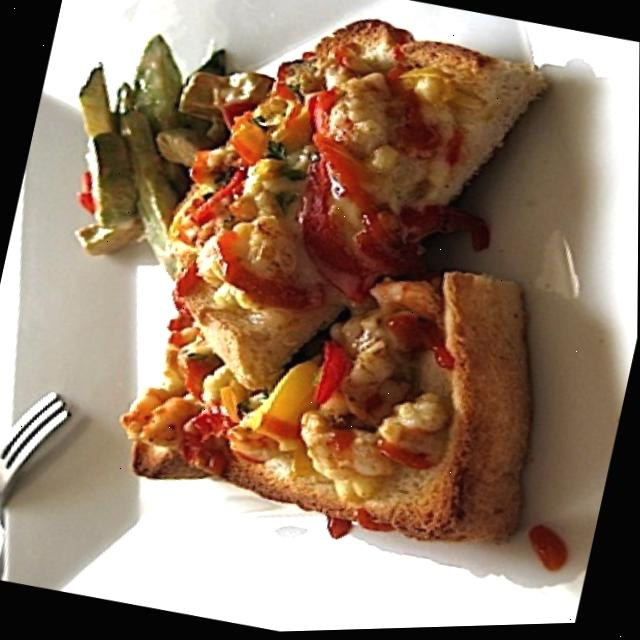面包点心: (64, 0, 627, 625)
